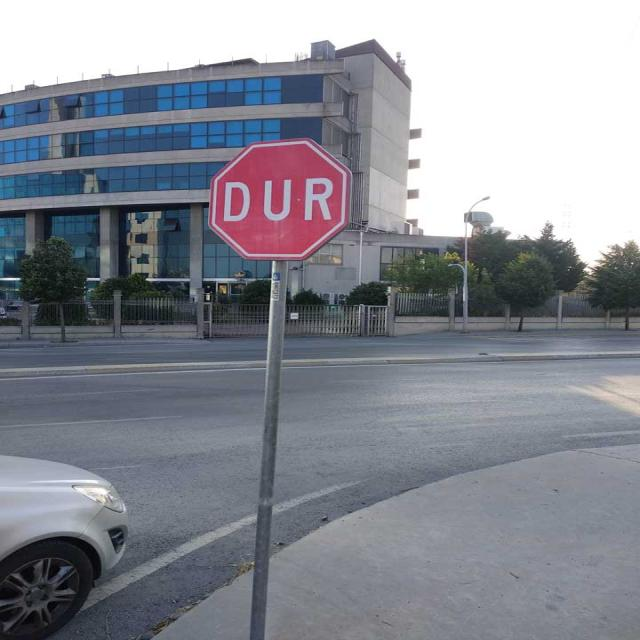dur: (207, 137, 352, 260)
